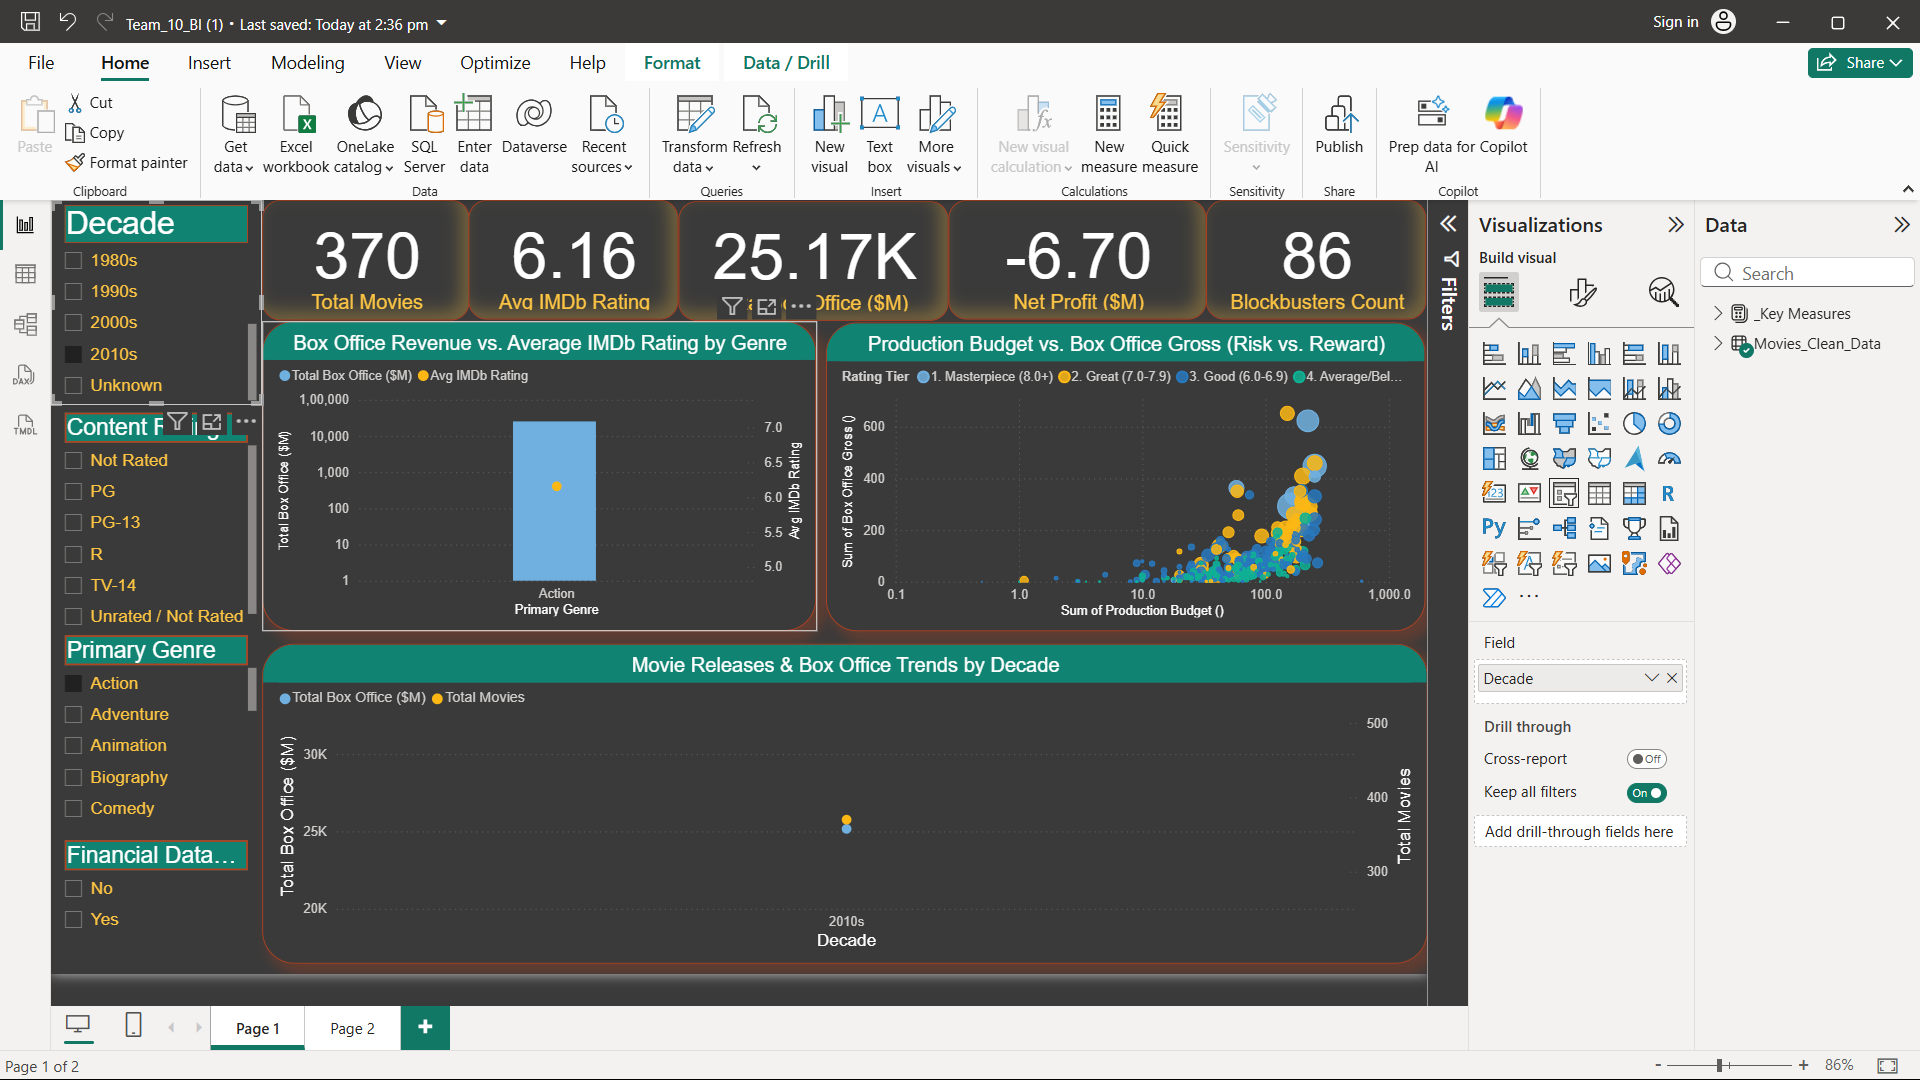

Layout of this report page (visuals, bound fields, positions):
{"tool":"powerbi","page":{"name":"Page 1","canvas":[1280,720],"ordinal":0},"visuals":[{"type":"slicer","fields":{"Values":["Movies_Clean_Data.Decade"]},"box":[0,0,196.2,191.2],"z":0},{"type":"slicer","fields":{"Values":["Movies_Clean_Data.Content Rating"]},"box":[0,192.5,196.2,208.8],"z":1000},{"type":"slicer","fields":{"Values":["Movies_Clean_Data.Primary Genre"]},"box":[0,400.6,196.3,189.6],"z":2000},{"type":"slicer","fields":{"Values":["Movies_Clean_Data.Financial Data Available"]},"box":[0,590.1,196.3,129.8],"z":3000},{"type":"card","fields":{"Values":["_Key Measures.Total Movies"]},"box":[196.3,0,192.9,111.7],"z":4000},{"type":"card","fields":{"Values":["_Key Measures.Avg IMDb Rating"]},"box":[388.8,0,195,111.2],"z":5000},{"type":"card","fields":{"Values":["_Key Measures.Total Box Office ($M)"]},"box":[583.8,1.2,251.2,111.2],"z":6000},{"type":"card","fields":{"Values":["_Key Measures.Net Profit ($M)"]},"box":[835,0,240,111.2],"z":7000},{"type":"card","fields":{"Values":["_Key Measures.Blockbusters Count"]},"box":[1075,0,205,111.2],"z":8000},{"type":"lineClusteredColumnComboChart","title":"Box Office Revenue vs. Average IMDb Rating by Genre","fields":{"Category":["Movies_Clean_Data.Primary Genre"],"Y":["_Key Measures.Total Box Office ($M)"],"Y2":["_Key Measures.Avg IMDb Rating"]},"box":[196.7,113.3,515.6,287.8],"z":9000},{"type":"scatterChart","title":"Production Budget vs. Box Office Gross (Risk vs. Reward)","fields":{"X":["Movies_Clean_Data.Production Budget ()"],"Y":["Movies_Clean_Data.Box Office Gross ()"],"Series":["Movies_Clean_Data.Rating Tier"],"Size":["Sum(Movies_Clean_Data.Votes)"],"Category":["Movies_Clean_Data.Movie ID"]},"box":[721.2,113.8,557.5,287.5],"z":10000},{"type":"areaChart","title":"Movie Releases & Box Office Trends by Decade","fields":{"Category":["Movies_Clean_Data.Decade"],"Y":["_Key Measures.Total Box Office ($M)"],"Y2":["_Key Measures.Total Movies"]},"box":[196.2,412.5,1083.8,297.5],"z":11000}]}

Visuals, with their boxes on the page's 1280x720 design canvas (x1, y1, x2, y2). These are canvas units, not pixel positions in the 1920x1080 screenshot, which may show the page scaled, cropped or inside an application window:
slicer - Movies_Clean_Data.Decade: Rect(0, 0, 196, 191)
slicer - Movies_Clean_Data.Content Rating: Rect(0, 192, 196, 401)
slicer - Movies_Clean_Data.Primary Genre: Rect(0, 401, 196, 590)
slicer - Movies_Clean_Data.Financial Data Available: Rect(0, 590, 196, 720)
card - _Key Measures.Total Movies: Rect(196, 0, 389, 112)
card - _Key Measures.Avg IMDb Rating: Rect(389, 0, 584, 111)
card - _Key Measures.Total Box Office ($M): Rect(584, 1, 835, 112)
card - _Key Measures.Net Profit ($M): Rect(835, 0, 1075, 111)
card - _Key Measures.Blockbusters Count: Rect(1075, 0, 1280, 111)
"Box Office Revenue vs. Average IMDb Rating by Genre" lineClusteredColumnComboChart: Rect(197, 113, 712, 401)
"Production Budget vs. Box Office Gross (Risk vs. Reward)" scatterChart: Rect(721, 114, 1279, 401)
"Movie Releases & Box Office Trends by Decade" areaChart: Rect(196, 412, 1280, 710)
